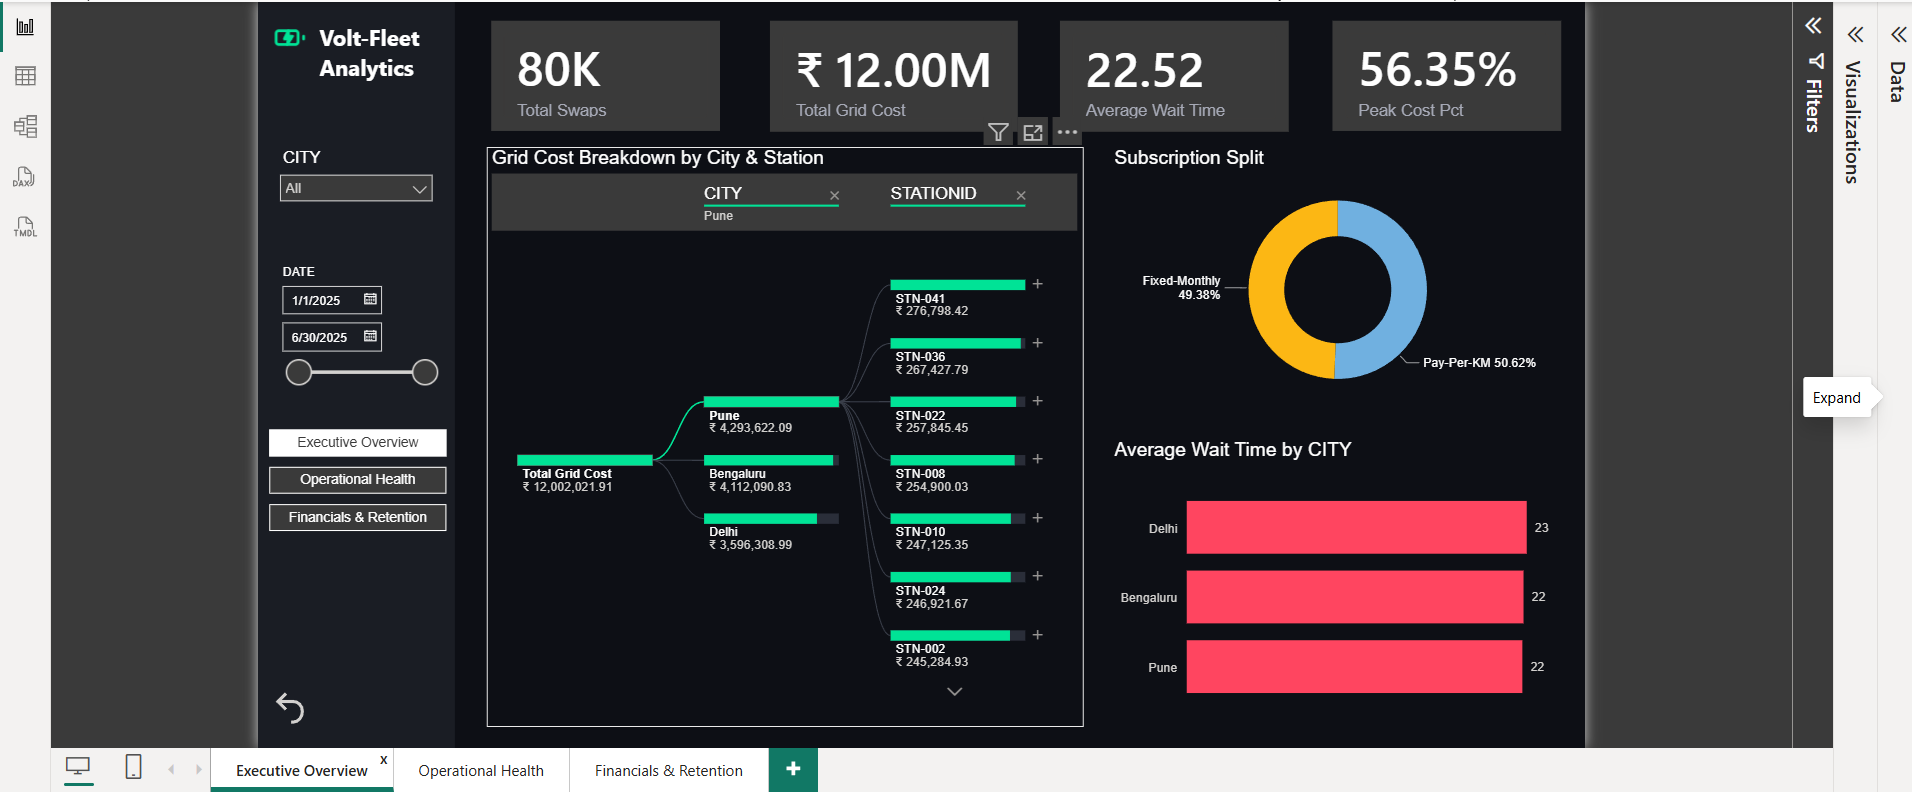

This screenshot's page, from the dashboard's own definition file:
{"tool":"powerbi","page":{"name":"Executive Overview","canvas":[1280,720],"ordinal":0},"visuals":[{"type":"cardVisual","fields":{"Data":["VW_CLEAN_SWAPS.Total Swaps"]},"box":[204.8,13.5,246.5,116.5],"z":1000},{"type":"cardVisual","fields":{"Data":["VW_CLEAN_CHARGING.Total Grid Cost"]},"box":[474.1,13.3,264.2,117],"z":2000},{"type":"cardVisual","fields":{"Data":["VW_CLEAN_SWAPS.Average Wait Time"]},"box":[754,13.3,246.1,117],"z":3000},{"type":"cardVisual","fields":{"Data":["VW_CLEAN_CHARGING.Peak Cost Pct"]},"box":[1016.6,13.5,246.5,116.5],"z":4000},{"type":"decompositionTreeVisual","title":"Grid Cost Breakdown by City & Station","fields":{"Analyze":["VW_CLEAN_CHARGING.Total Grid Cost"],"ExplainBy":["DIM_STATIONS.CITY","DIM_STATIONS.STATIONID","VW_CLEAN_CHARGING.IS_PEAK_HOUR"]},"box":[220.7,139.8,575.1,560.4],"z":5000},{"type":"donutChart","title":"Subscription Split","fields":{"Category":["VW_CLEAN_CUSTOMERS.SUBSCRIPTION_PLAN"],"Y":["VW_CLEAN_SWAPS.Total Swaps"]},"box":[821.6,139.8,441.5,255.1],"z":6000},{"type":"clusteredBarChart","fields":{"Category":["DIM_STATIONS.CITY"],"Y":["VW_CLEAN_SWAPS.Average Wait Time"]},"box":[821.6,420.6,441.5,280.8],"z":7000},{"type":"shape","box":[0,0,190,720.2],"z":7001},{"type":"slicer","fields":{"Values":["DIM_STATIONS.CITY"]},"box":[10.6,136.8,167.7,80.8],"z":7002},{"type":"pageNavigator","box":[10.6,413.1,171,100],"z":7003},{"type":"slicer","fields":{"Values":["VW_CLEAN_SWAPS.DATE"]},"box":[10.6,248.4,171.3,133.9],"z":7004},{"type":"textbox","box":[54.3,14.5,124.3,96.5],"z":7005},{"type":"actionButton","box":[10.9,14.5,43.4,39.8],"z":7006},{"type":"actionButton","box":[11.1,660.9,100.2,40.3],"z":7007}]}

Visuals, with their boxes on the page's 1280x720 design canvas (x1, y1, x2, y2). These are canvas units, not pixel positions in the 1912x792 screenshot, which may show the page scaled, cropped or inside an application window:
cardVisual - VW_CLEAN_SWAPS.Total Swaps: (left=205, top=14, right=451, bottom=130)
cardVisual - VW_CLEAN_CHARGING.Total Grid Cost: (left=474, top=13, right=738, bottom=130)
cardVisual - VW_CLEAN_SWAPS.Average Wait Time: (left=754, top=13, right=1000, bottom=130)
cardVisual - VW_CLEAN_CHARGING.Peak Cost Pct: (left=1017, top=14, right=1263, bottom=130)
"Grid Cost Breakdown by City & Station" decompositionTreeVisual: (left=221, top=140, right=796, bottom=700)
"Subscription Split" donutChart: (left=822, top=140, right=1263, bottom=395)
clusteredBarChart - DIM_STATIONS.CITY x VW_CLEAN_SWAPS.Average Wait Time: (left=822, top=421, right=1263, bottom=701)
shape: (left=0, top=0, right=190, bottom=720)
slicer - DIM_STATIONS.CITY: (left=11, top=137, right=178, bottom=218)
pageNavigator: (left=11, top=413, right=182, bottom=513)
slicer - VW_CLEAN_SWAPS.DATE: (left=11, top=248, right=182, bottom=382)
textbox: (left=54, top=14, right=179, bottom=111)
actionButton: (left=11, top=14, right=54, bottom=54)
actionButton: (left=11, top=661, right=111, bottom=701)
